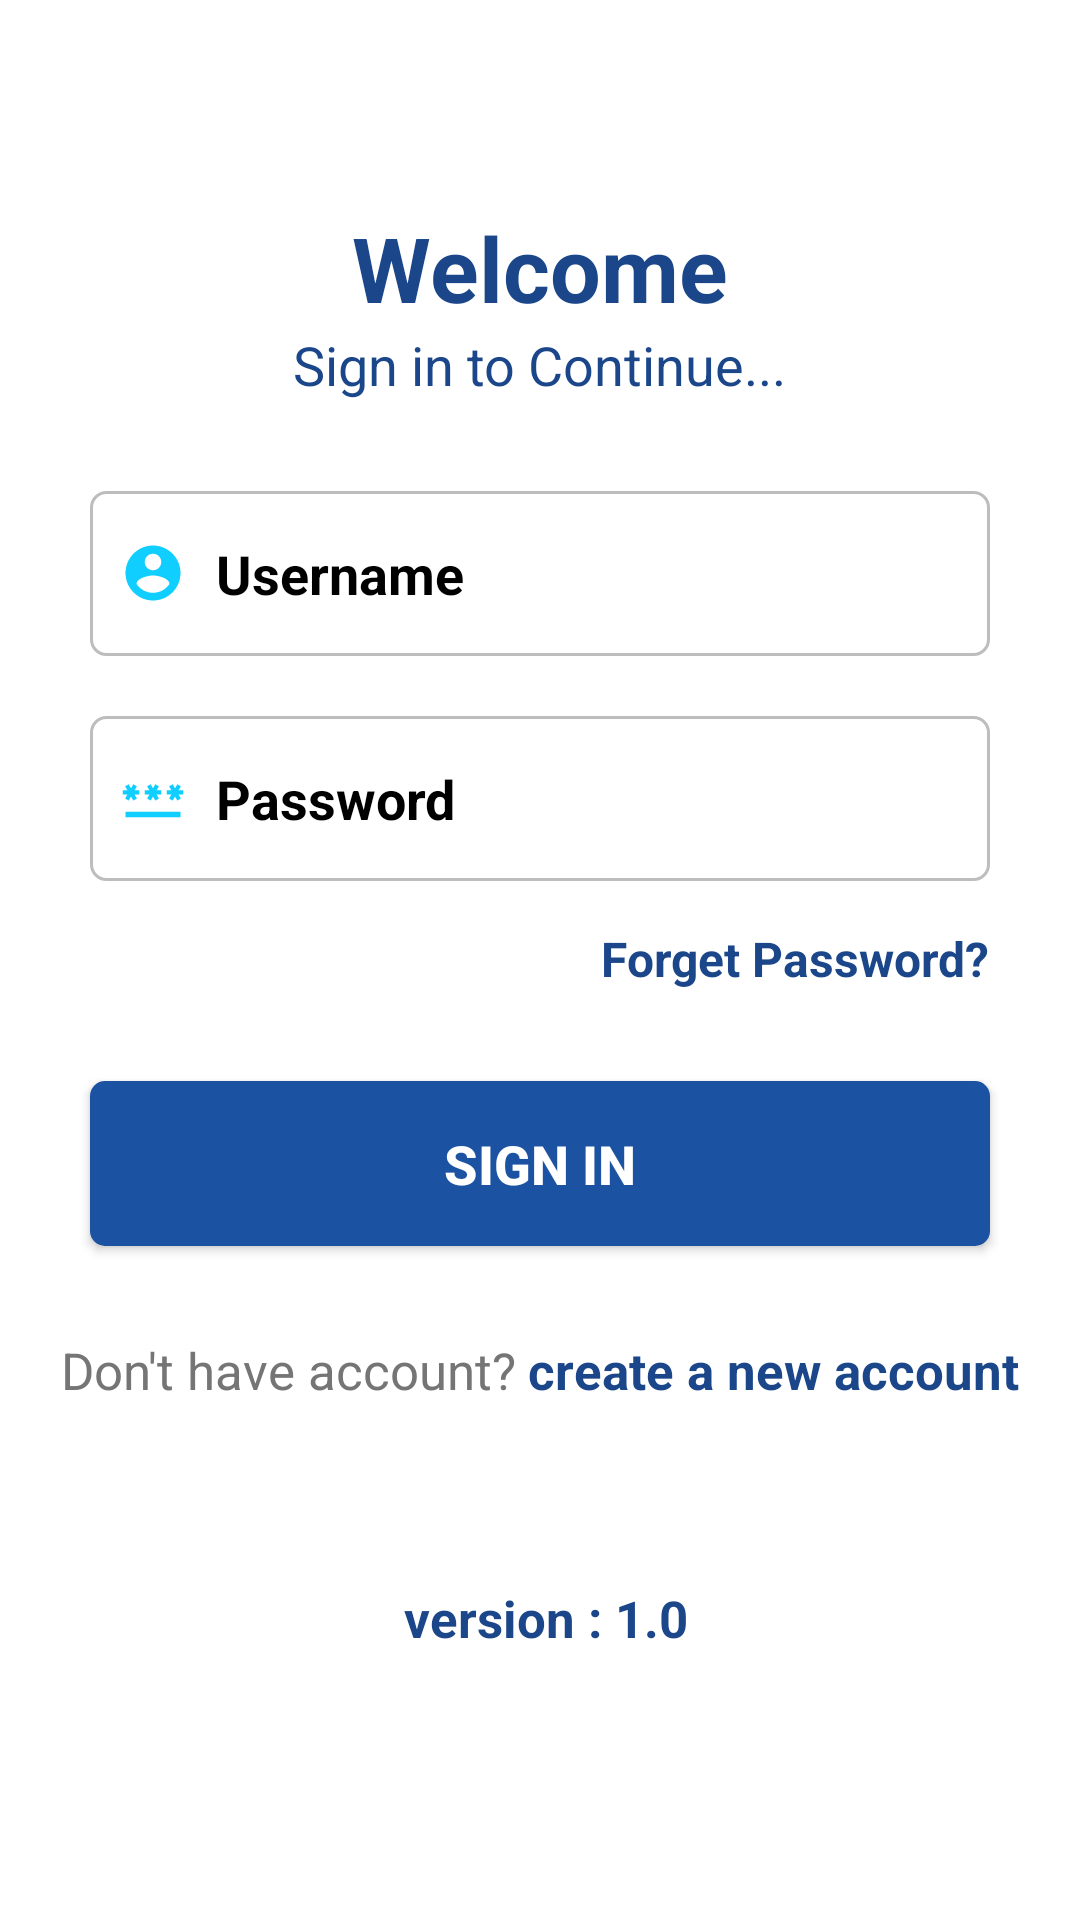

Screen size 1080*1920. Icon name, then its center in pixels as (x,y):
account circle: (153,573)
